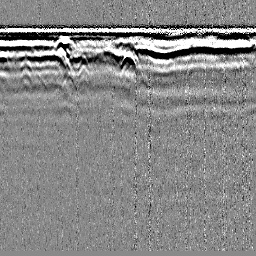cavity: (119, 48, 137, 70)
